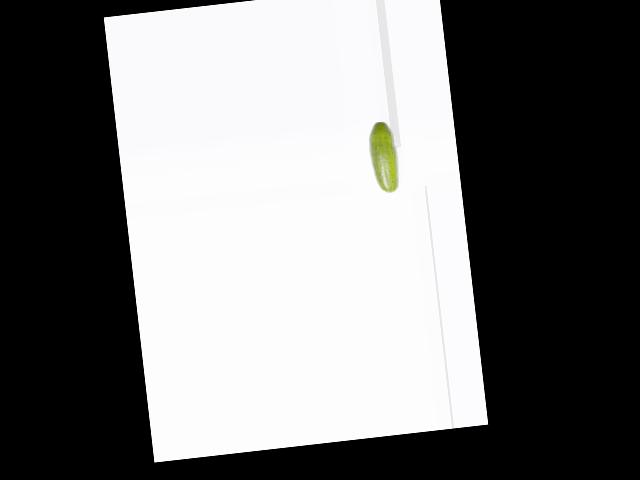cucumber: (366, 119, 402, 194)
